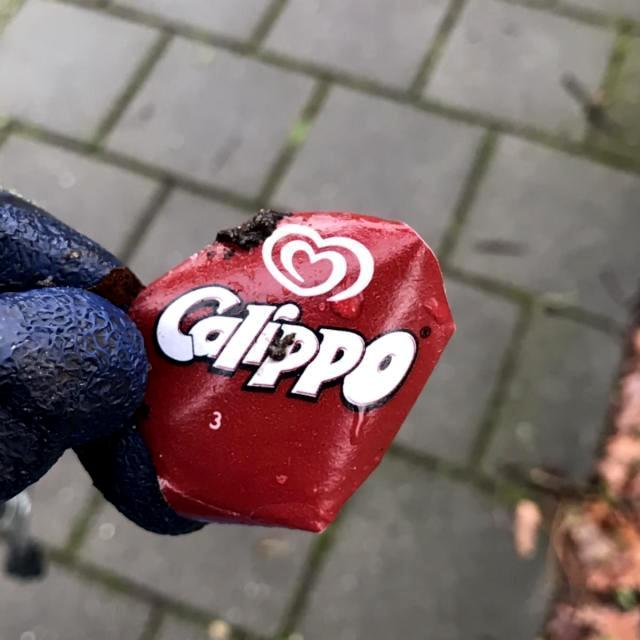Paper: (118, 204, 462, 542)
